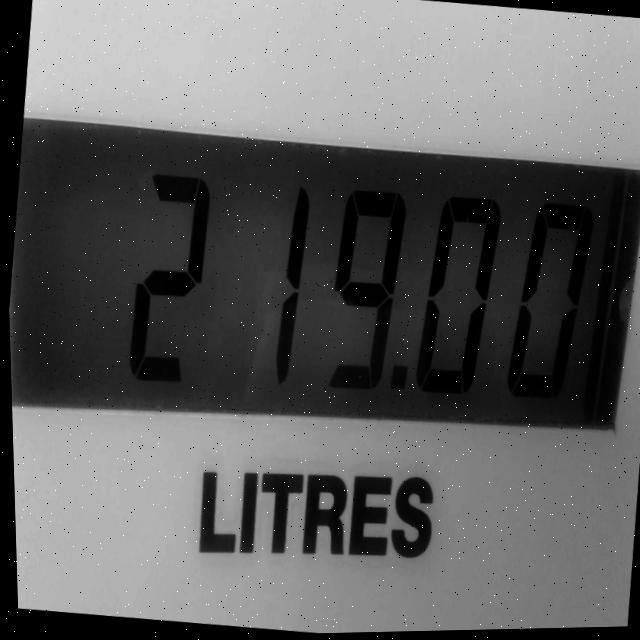.: (383, 359, 412, 404)
0: (500, 203, 602, 406), (407, 196, 507, 402)
1: (263, 182, 318, 388)
2: (124, 175, 216, 381)
9: (323, 187, 405, 394)
